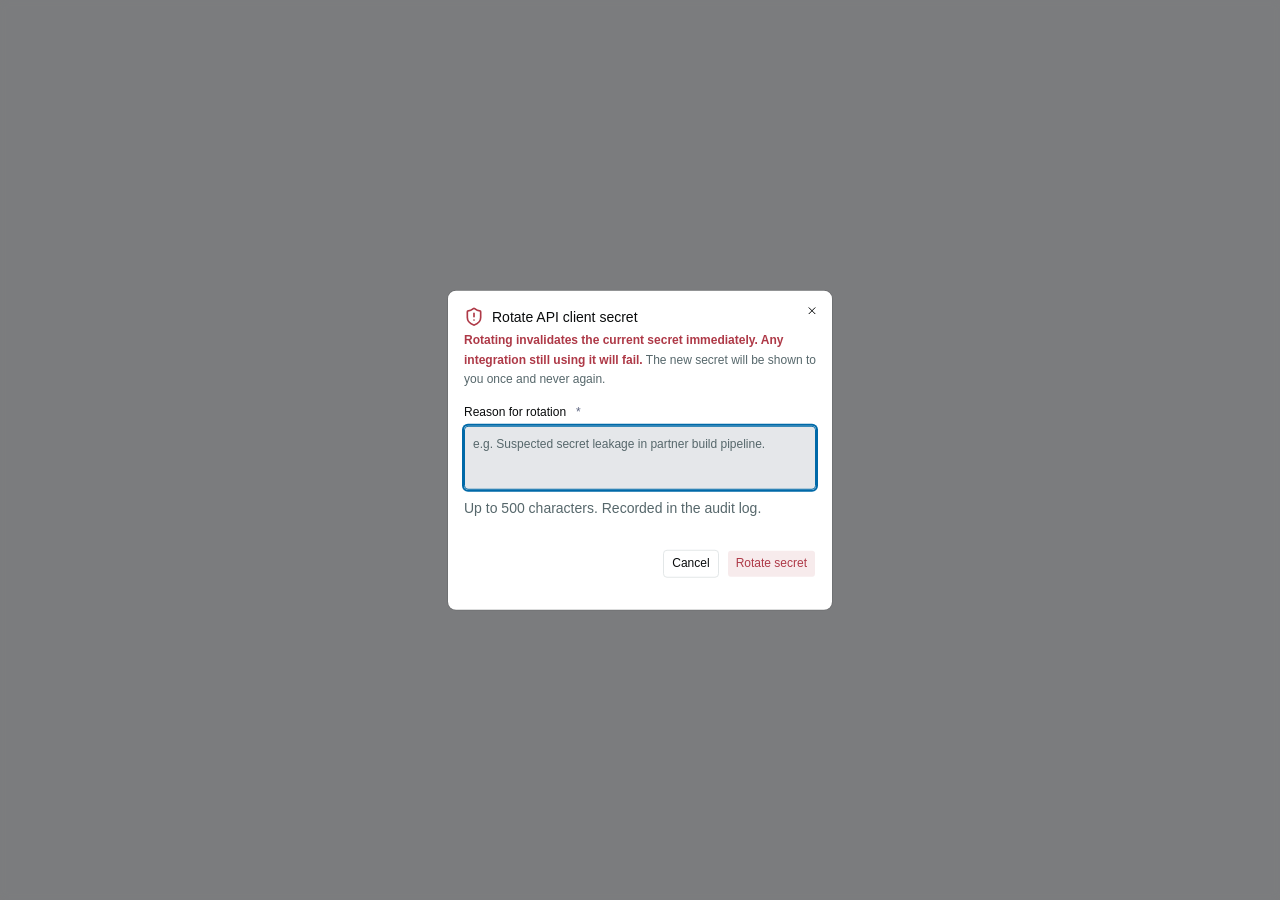
Test: RotateSecretDialog › blocks submit when reason is empty
Click the button "Rotate secret".
click(771, 563)  # box left=727, top=549, right=816, bottom=577
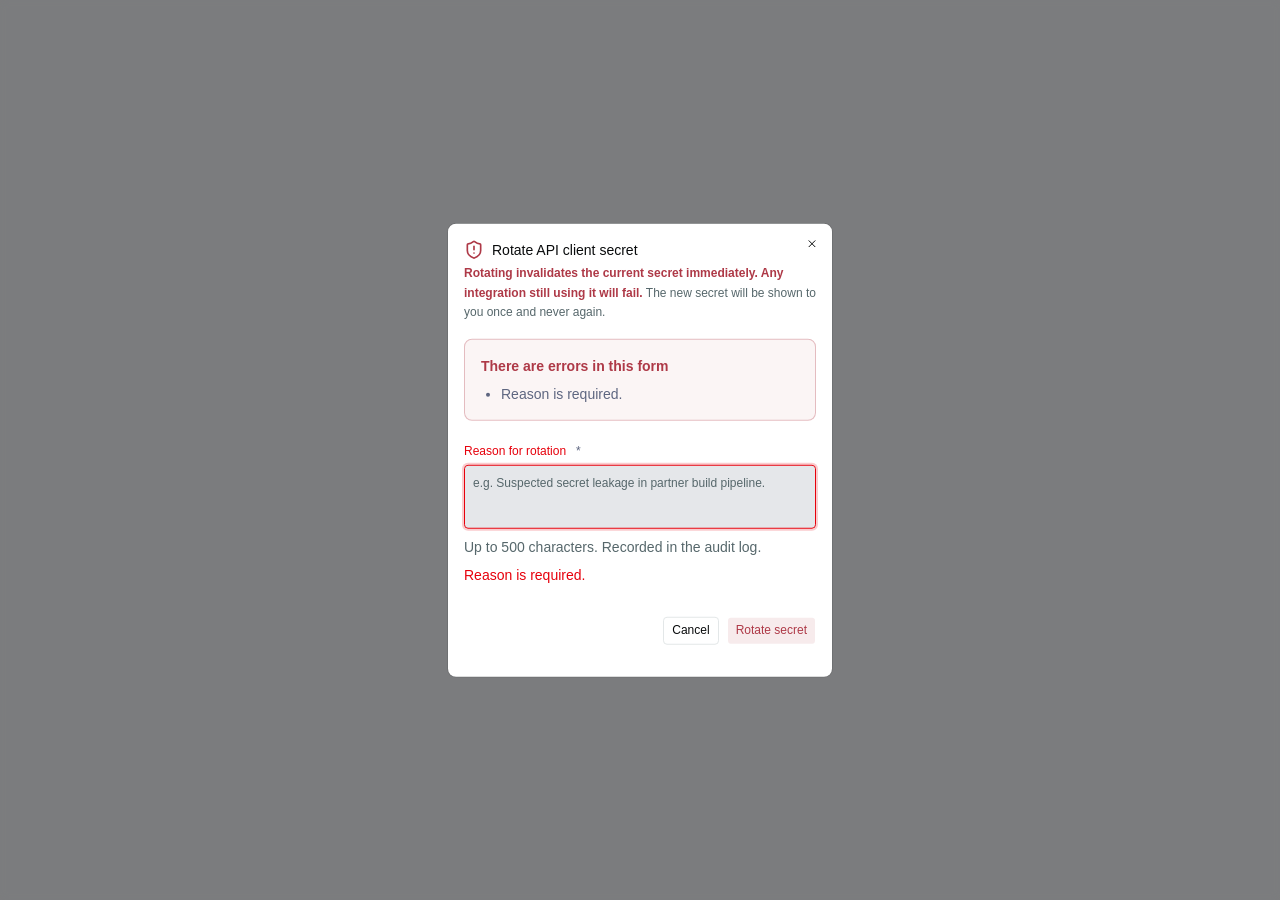
Now the list item "Reason is required." is shown, box left=501, top=385, right=622, bottom=401
